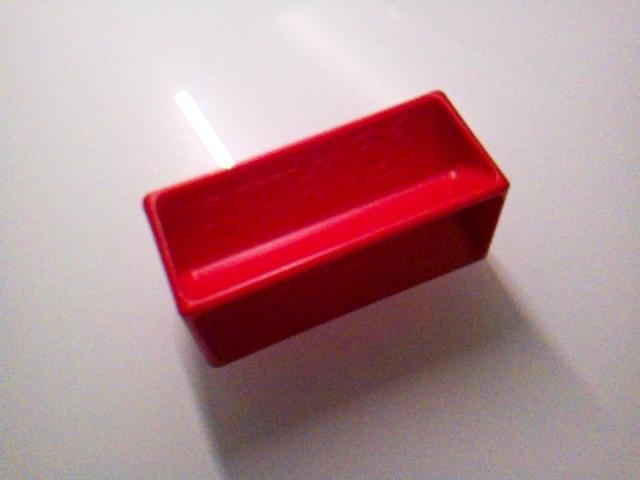red: (141, 88, 511, 368)
